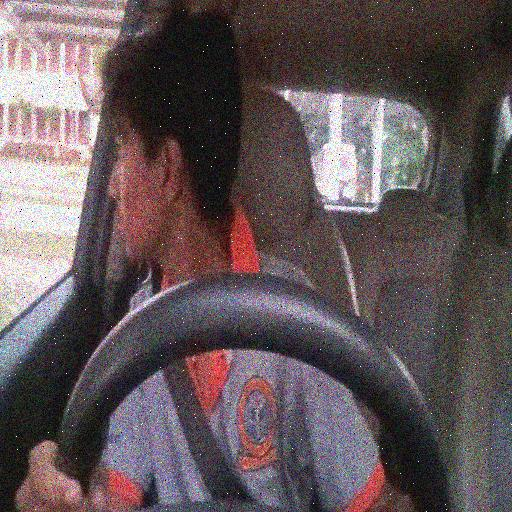Reaching_behind: (73, 10, 329, 461)
